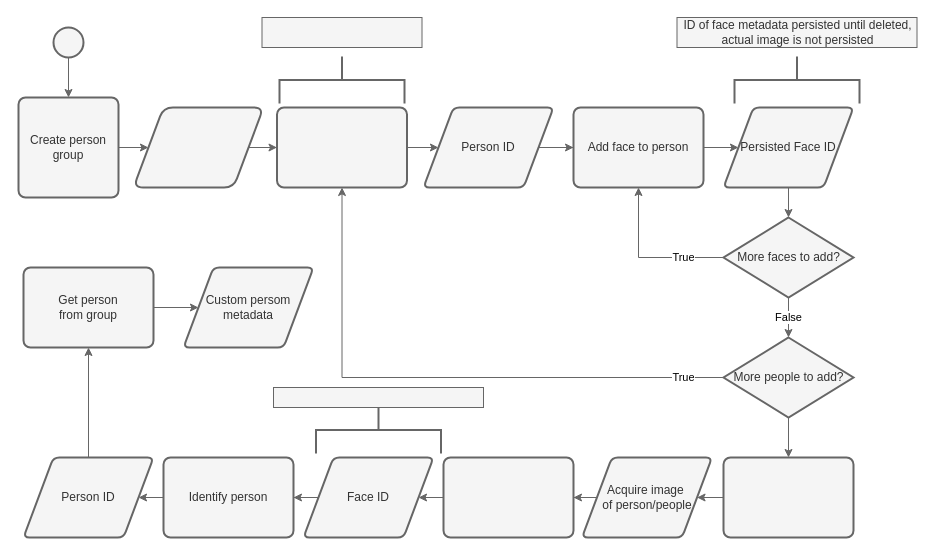
Some shapes in this 934 by 556 pixel diagram are drawn without their labels. Each missing label, with the centre of its shape:
"Create person in group" goes at [342,147].
"Detect face in image" goes at [508,497].
"Face metadata persisted for 24 hours" goes at [378,397].
"PersonGroupId" goes at [198,147].
"Train on Person Group" goes at [788,497].
"Users can attach custom metadata to Person" goes at [341,32].
